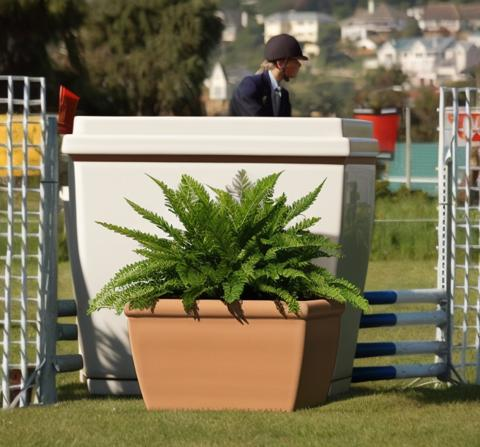person: (192, 33, 310, 272)
pottedplant: (59, 98, 376, 411)
